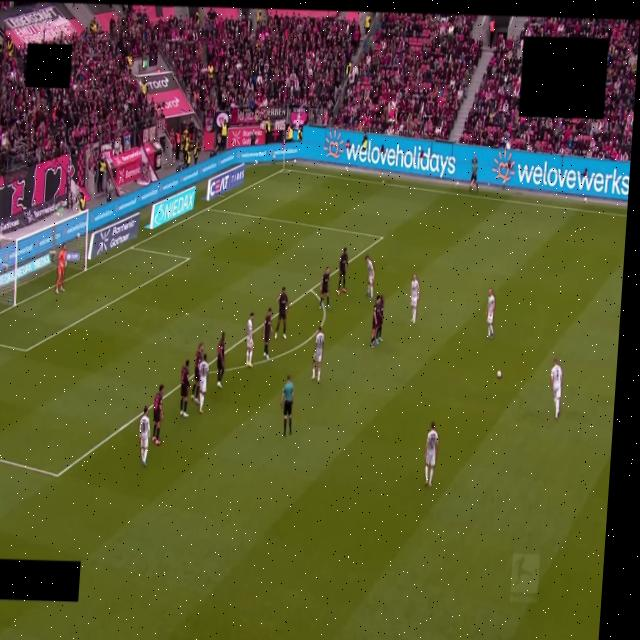ball: (497, 370, 501, 378)
player: (196, 354, 210, 414), (425, 422, 438, 486), (243, 312, 256, 367), (275, 288, 289, 339), (153, 385, 164, 445), (312, 326, 324, 381), (551, 360, 562, 419), (192, 343, 203, 402), (139, 406, 149, 466), (180, 359, 189, 417), (410, 274, 420, 324), (56, 243, 66, 293), (338, 248, 348, 296), (319, 266, 330, 307), (371, 297, 380, 347), (486, 289, 495, 338), (217, 333, 225, 388), (264, 308, 272, 360), (365, 256, 374, 300), (376, 295, 384, 343)
referee: (280, 375, 293, 436)
